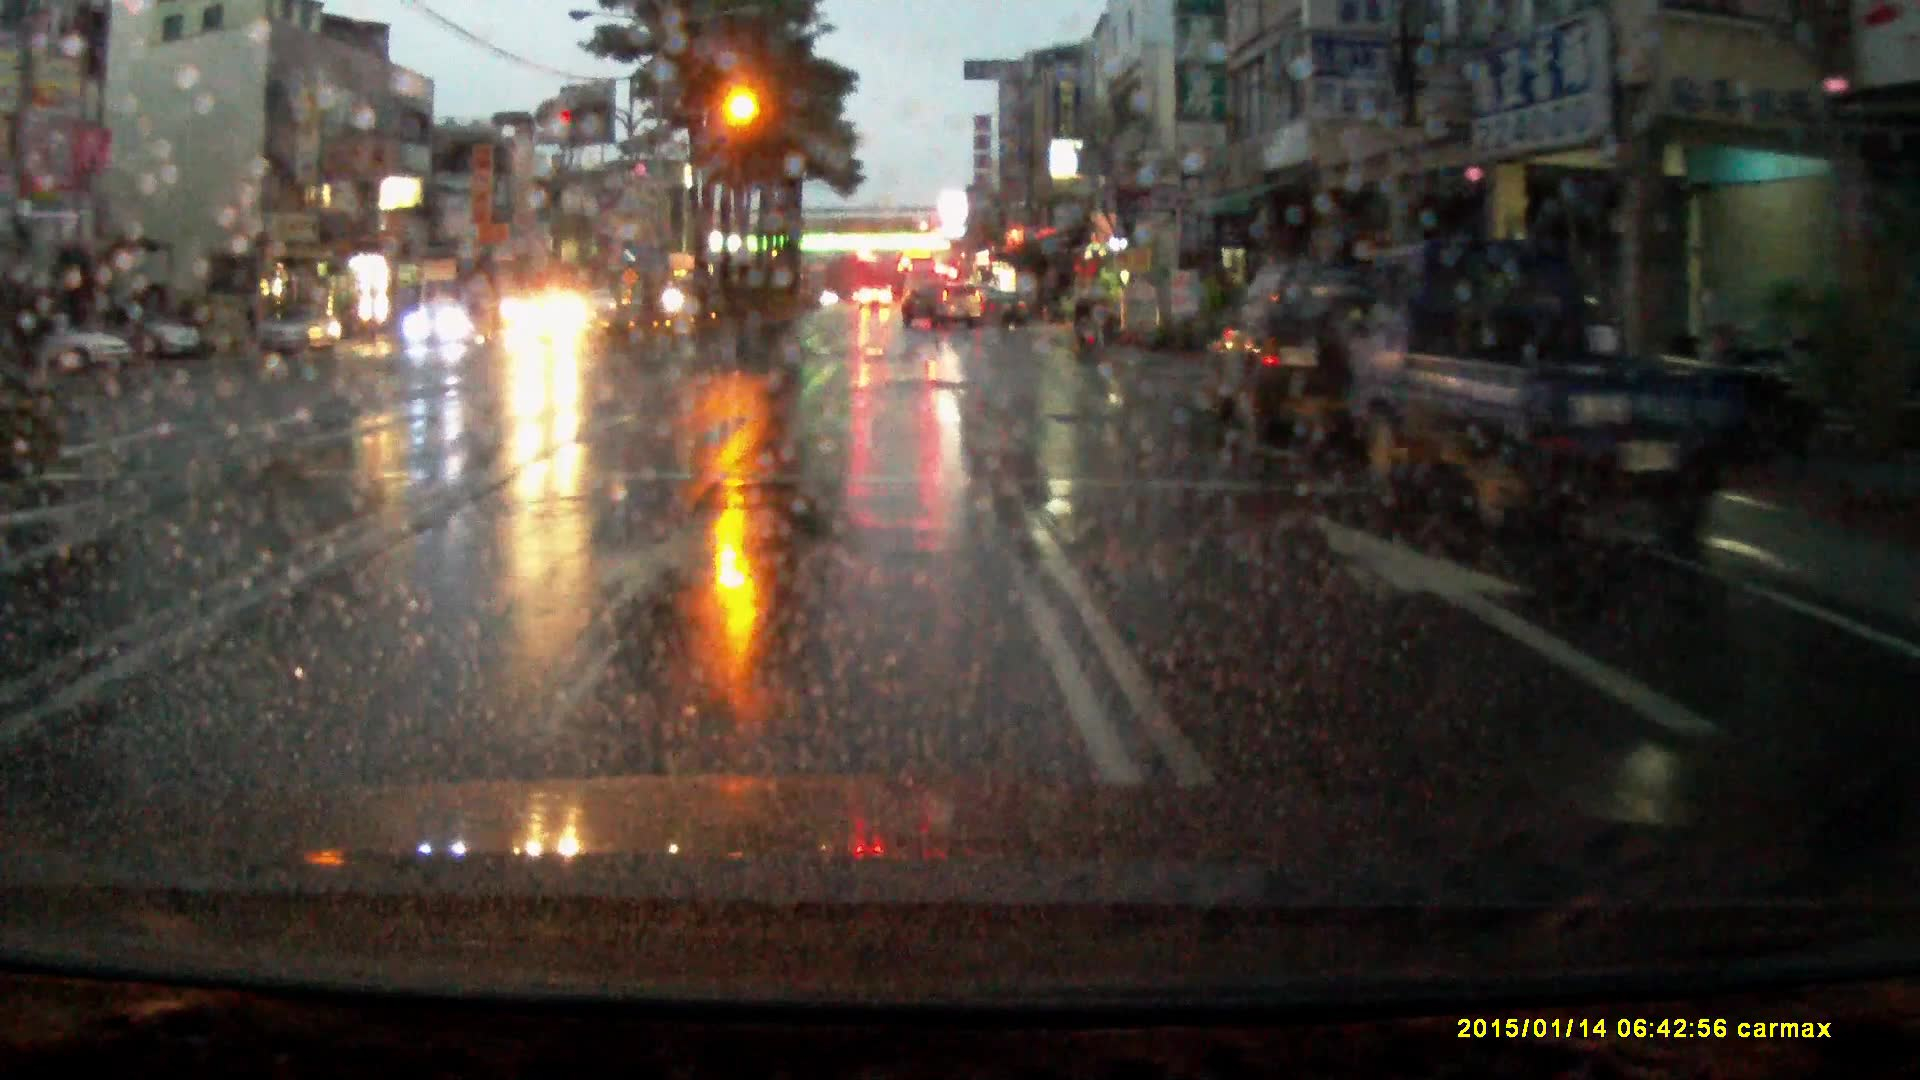vehicle: (1360, 233, 1764, 542), (1215, 256, 1387, 446), (4, 309, 127, 377), (516, 286, 597, 353), (255, 299, 343, 357), (899, 280, 982, 328), (141, 305, 210, 361), (402, 301, 476, 348), (901, 258, 939, 309), (982, 290, 1030, 330), (857, 282, 894, 310)
